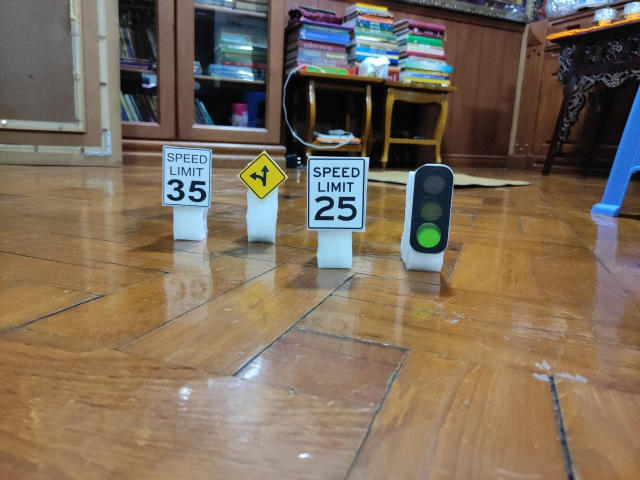Green Traffic Light: (409, 164, 454, 253)
Speed Limit 25: (305, 156, 366, 231)
Speed Limit 35: (161, 145, 213, 208)
Straight Or Left Sign: (238, 150, 287, 201)
